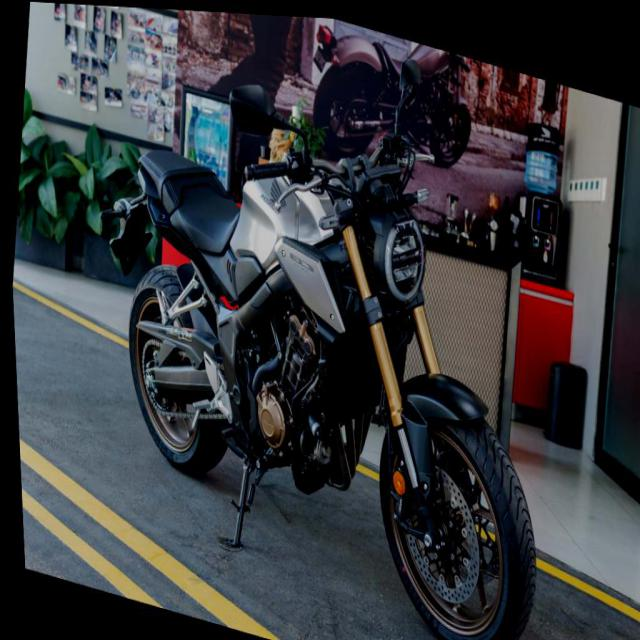CB650R: (81, 74, 575, 639)
